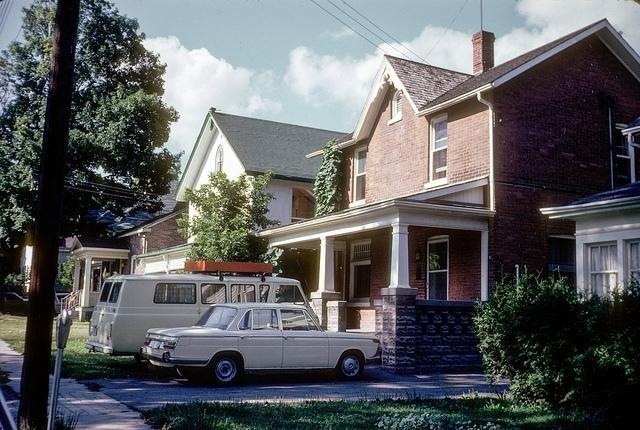car: (142, 306, 376, 384), (0, 292, 29, 316)
truck: (86, 262, 310, 354)
